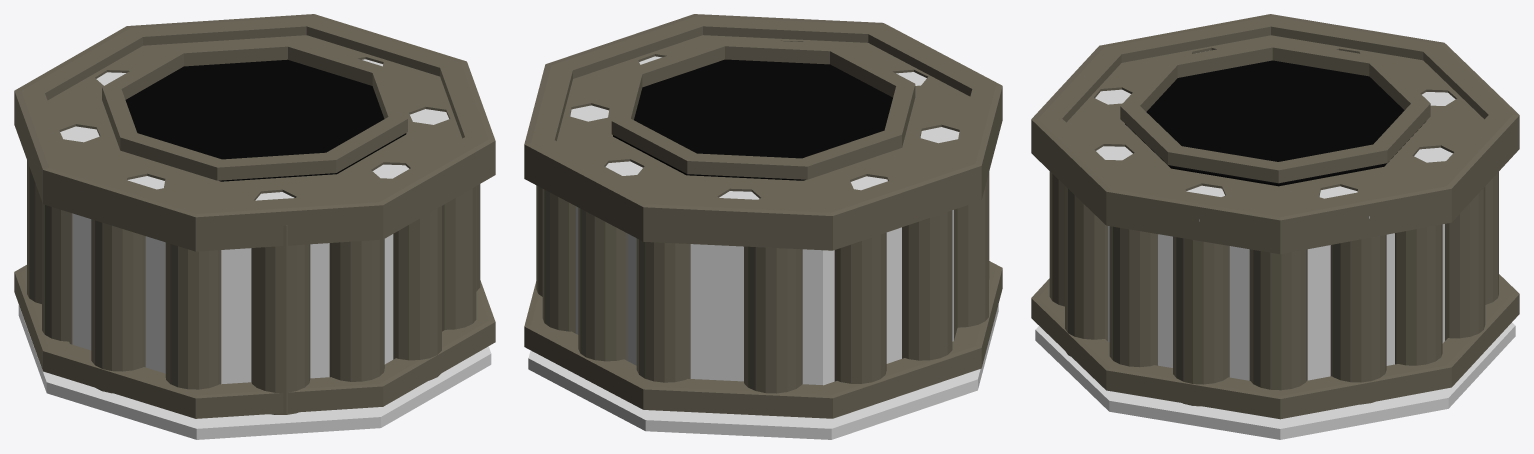
3 renders of one model, left to right at view 1: azimuth 30°, elevation 25°; view 2: azimuth 150°, elevation 25°; view 3: azimuth 270°, elevation 25°, orthographic.
Parts seen in each view (by area): view 1: Cylinder.007, Cylinder.005, Cylinder.001; view 2: Cylinder.007, Cylinder.005, Cylinder.001; view 3: Cylinder.007, Cylinder.005, Cylinder.001.
Boxes of the visible parts, x1,y1,x2,y2 form: Cylinder.007: [14, 14, 495, 418]; Cylinder.005: [18, 59, 491, 439]; Cylinder.001: [125, 59, 406, 181]; Cylinder.007: [524, 14, 1002, 418]; Cylinder.005: [528, 56, 998, 439]; Cylinder.001: [613, 59, 892, 180]; Cylinder.007: [1031, 14, 1519, 419]; Cylinder.005: [1035, 89, 1515, 439]; Cylinder.001: [1125, 60, 1425, 186].
Bounding box in the file's own units: 205 × 108 × 205.
